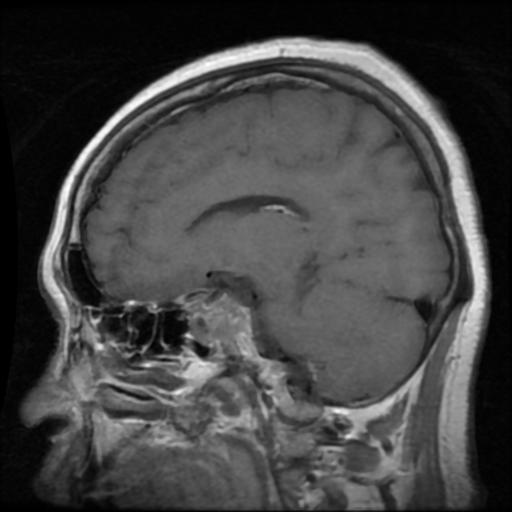Pituirity_tumour: (176, 286, 256, 358)
